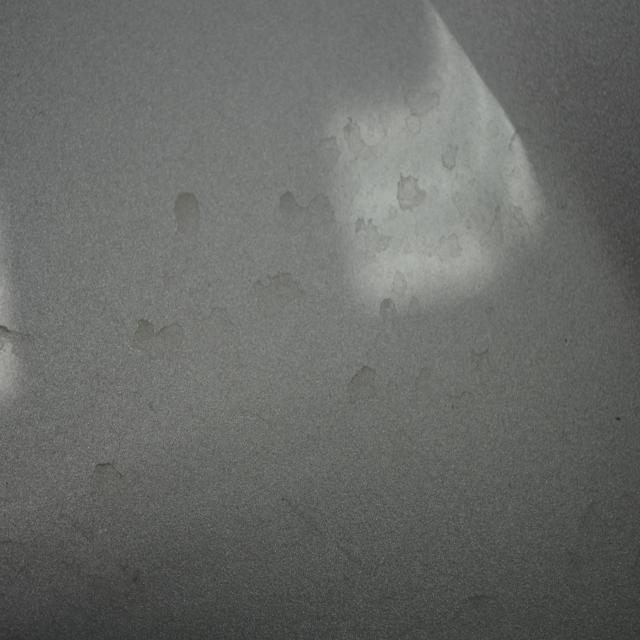water marks: (188, 284, 242, 354), (248, 266, 310, 323), (168, 179, 210, 252), (341, 110, 392, 168), (130, 314, 186, 364), (275, 188, 335, 234), (352, 210, 392, 266), (84, 456, 130, 501), (478, 201, 509, 258), (402, 86, 440, 130), (395, 172, 431, 218), (309, 132, 342, 182), (343, 362, 380, 403), (436, 230, 466, 270), (0, 321, 28, 361), (507, 123, 538, 159), (378, 292, 400, 336), (404, 288, 425, 332), (439, 141, 460, 177), (512, 198, 530, 234), (391, 271, 408, 298)
